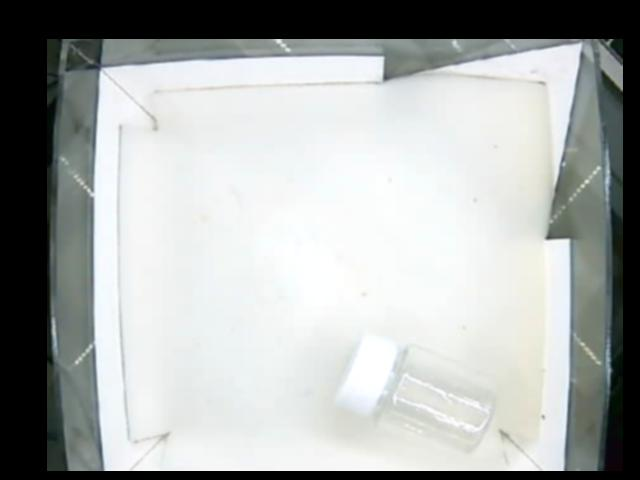Bottle: (333, 334, 494, 450)
